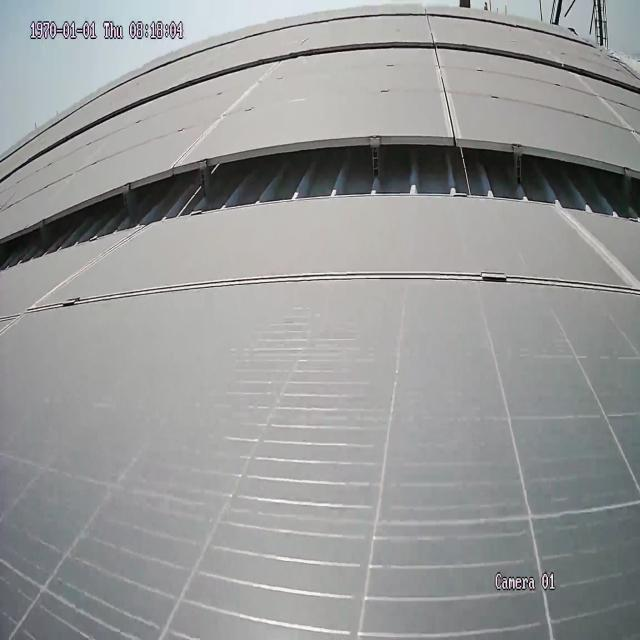interior panel: (28, 269, 634, 317), (434, 53, 459, 128)
outher panel: (0, 131, 640, 274)
